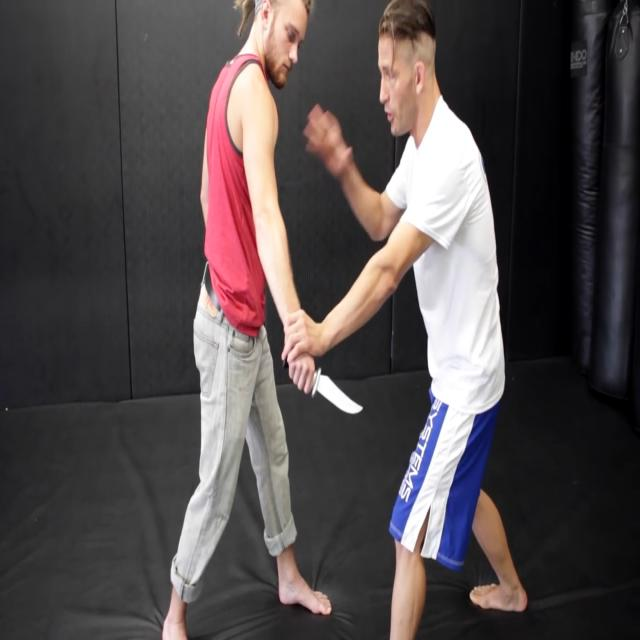knife: (312, 367, 368, 421)
